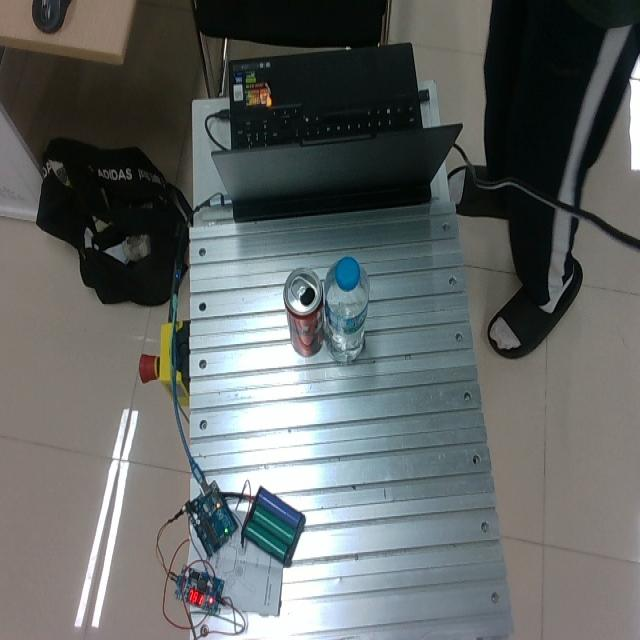coca: (282, 266, 325, 358)
lavie: (322, 256, 369, 363)
